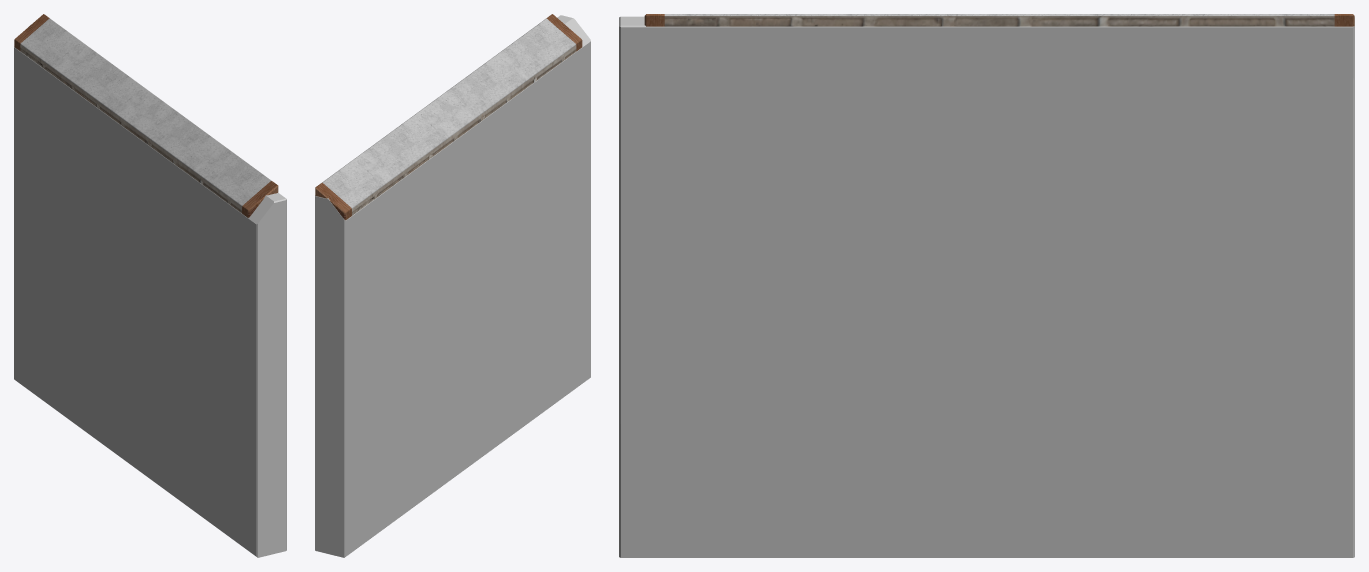
The model's file is SM_SJB_StoneWall04B.fbx.
3 views of the same model, side by side, from view 1: azimuth 30°, elevation 25°; view 2: azimuth 150°, elevation 25°; view 3: azimuth 270°, elevation 25° (orthographic). The views are drawn at different scales.
Visible parts, largest first — view 1: SM_SJB_StoneWall04B_ConvexHulls, SM_SJB_StoneWall04B; view 2: SM_SJB_StoneWall04B_ConvexHulls, SM_SJB_StoneWall04B; view 3: SM_SJB_StoneWall04B_ConvexHulls, SM_SJB_StoneWall04B.
Boxes of the visible parts, x1=… form: SM_SJB_StoneWall04B_ConvexHulls: x1=14, y1=25, x2=286, y2=557; SM_SJB_StoneWall04B: x1=14, y1=14, x2=278, y2=217; SM_SJB_StoneWall04B_ConvexHulls: x1=315, y1=15, x2=590, y2=557; SM_SJB_StoneWall04B: x1=315, y1=14, x2=582, y2=220; SM_SJB_StoneWall04B_ConvexHulls: x1=619, y1=16, x2=1354, y2=557; SM_SJB_StoneWall04B: x1=644, y1=14, x2=1354, y2=26.
Size of the model in its own units: 16.98 by 233 by 190.
2 materials, 1 textured.
